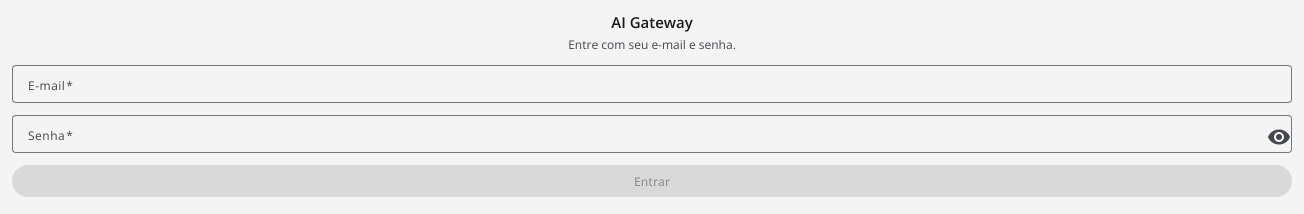
Scenario: SignInComponent › submit button › should be disabled while the login is being submitted
The image size is (1304, 214).
Step 1. Type "ana@example.com" into the field named "email" → (652, 84), box [28,72,1276,96]
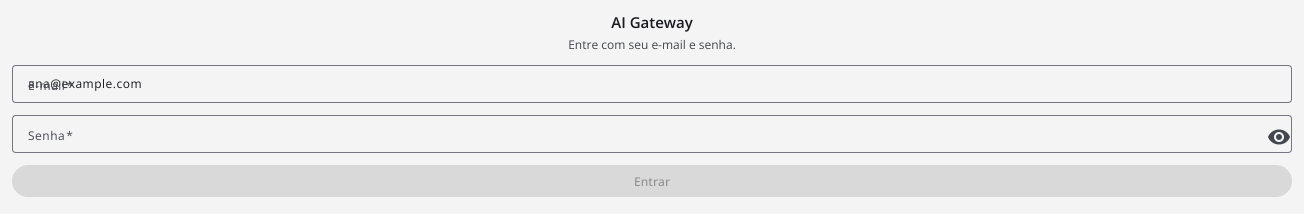
Step 2. Type "secret-password" into the password field named "password" → (642, 134), box [28,122,1256,146]
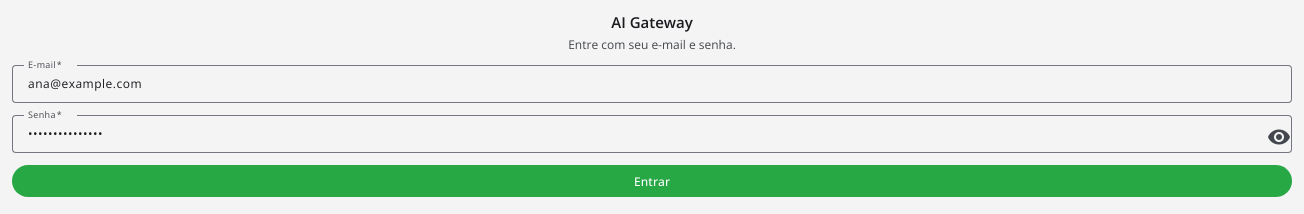
Step 3. Submit the form with class "sign-in-form"
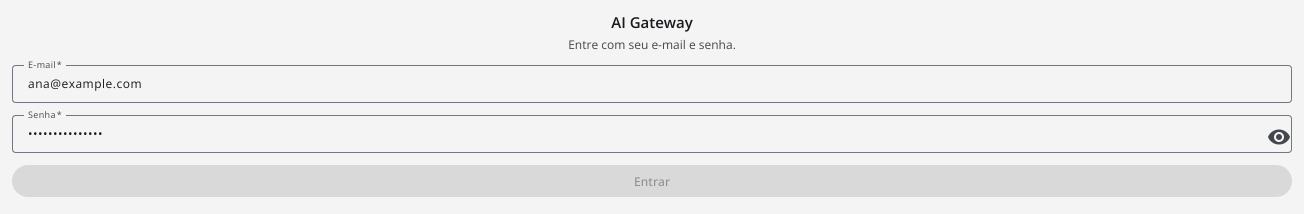
Expected: the submit button is disabled, [12,165,1292,197]
